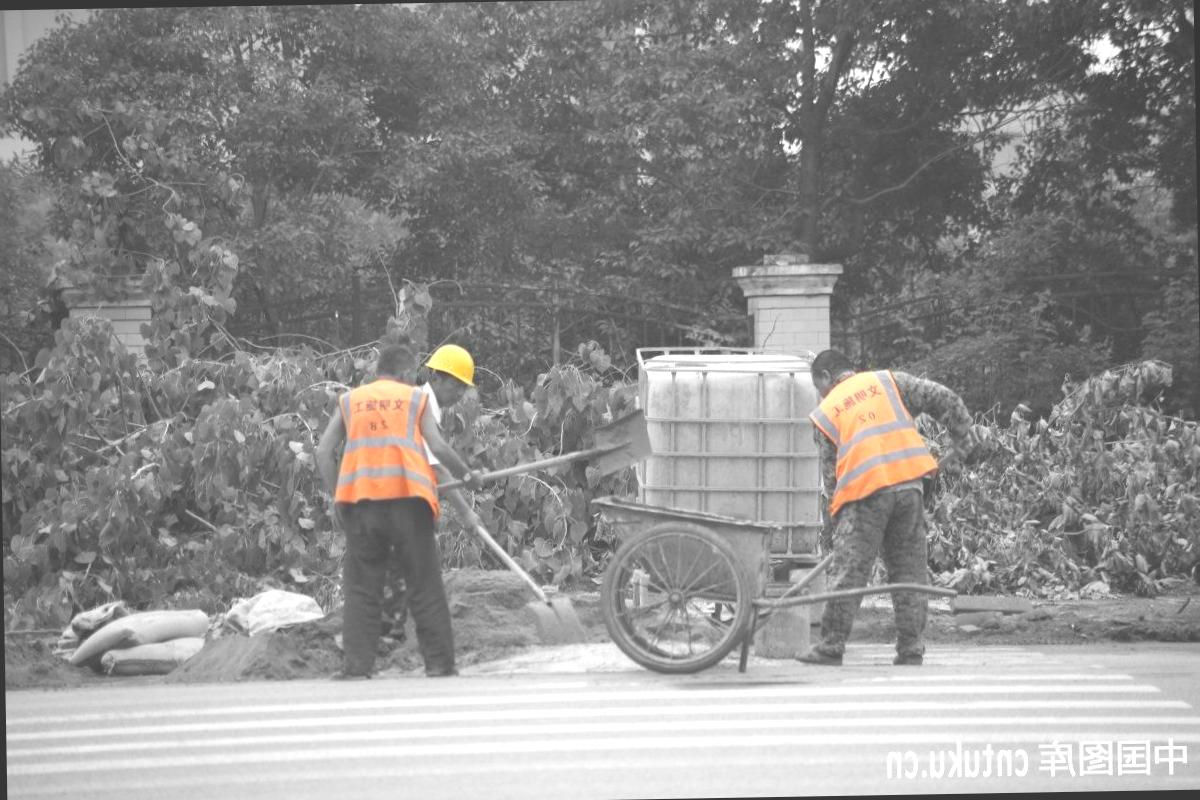helmet: (422, 341, 481, 407)
person: (804, 346, 992, 670)
